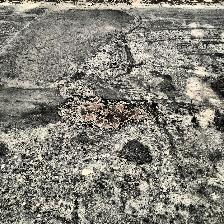pothole: (56, 94, 158, 132)
